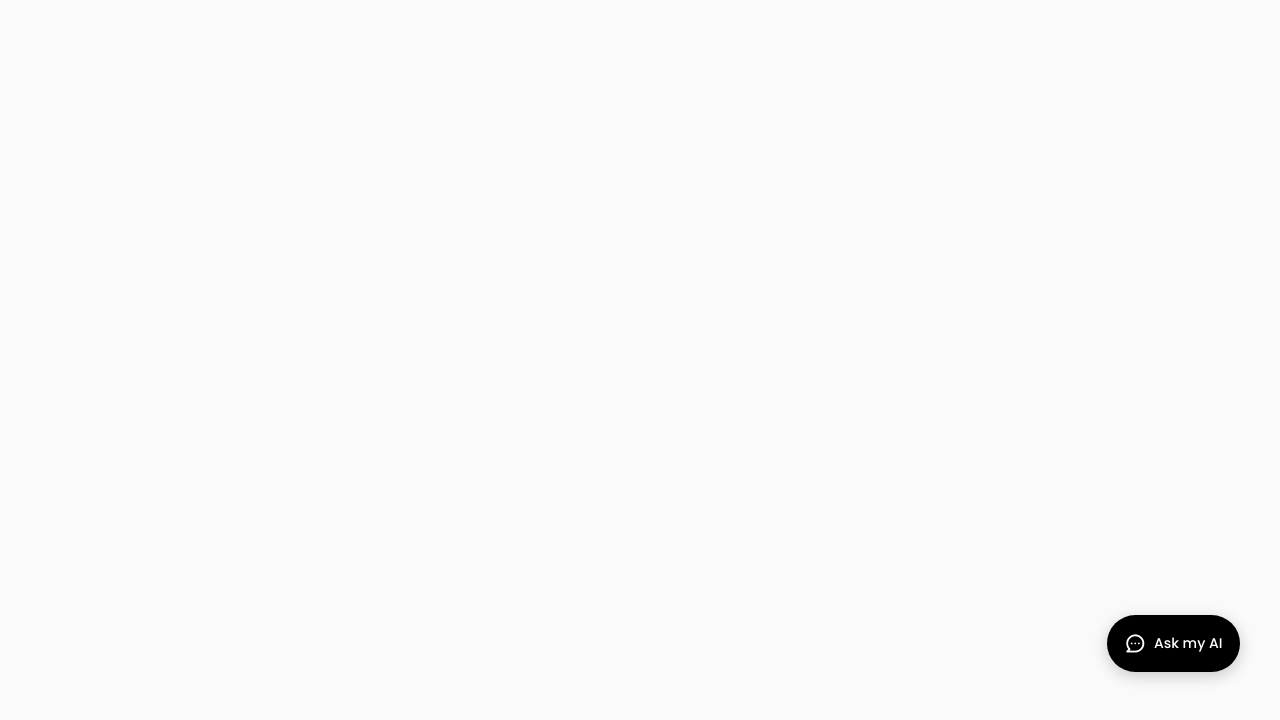
Test case: ChatWidget › a suggestion asks that question and shows the answer; suggestions disappear
Click the button with aria-label "open chat".
click(1173, 644)  # box [1107,615,1240,672]
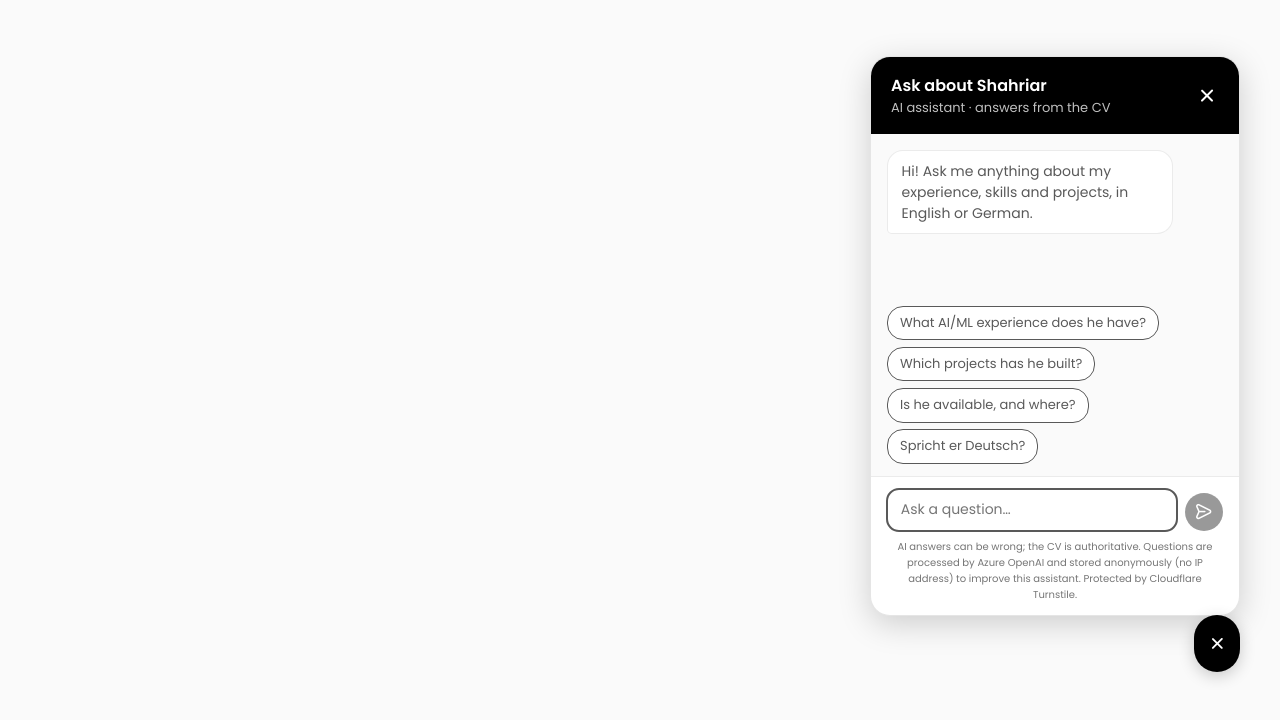
Click the button "What AI/ML experience does he have?".
click(1023, 323)  # box [887,306,1159,340]
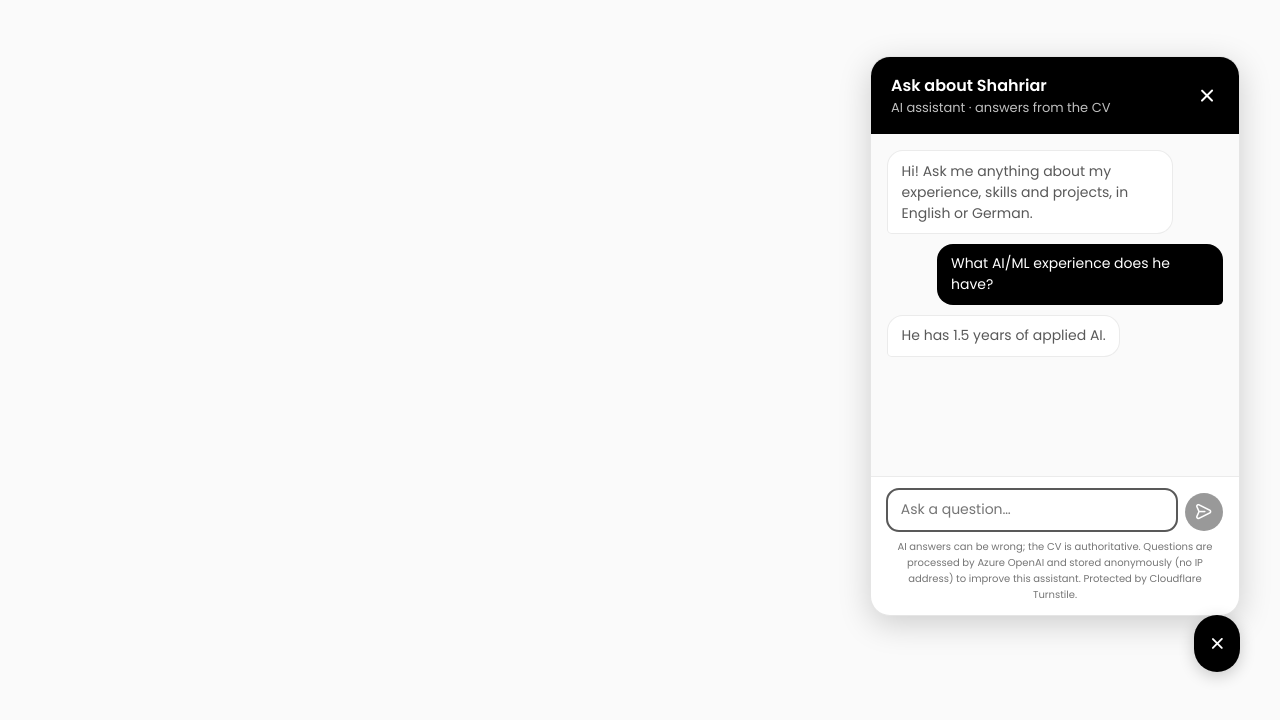
Check: the button "Which projects has he built?" is gone
